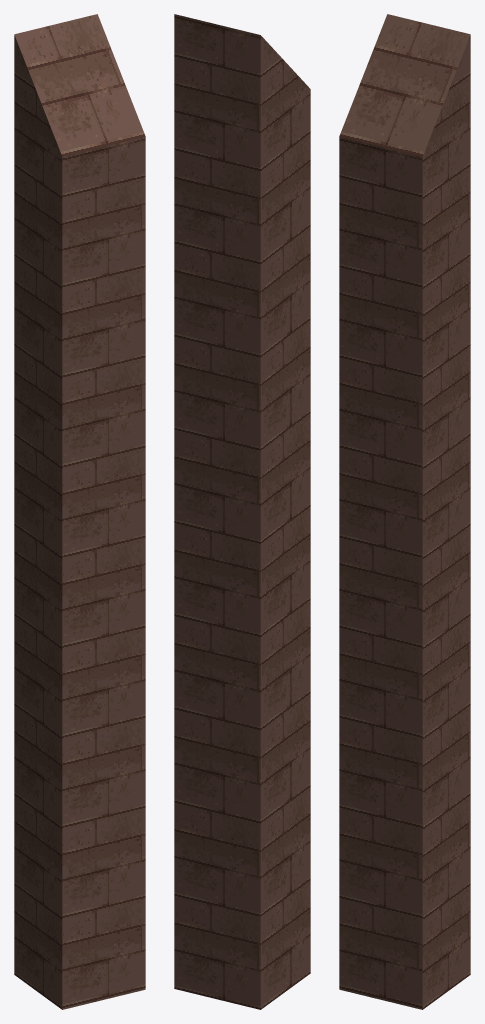
The model's file is staircase.glb.
3 renders of one model, left to right at view 1: azimuth 30°, elevation 25°; view 2: azimuth 150°, elevation 25°; view 3: azimuth 330°, elevation 25°, orthographic. The views are drawn at different scales.
Visible parts, largest first — view 1: Cube; view 2: Cube; view 3: Cube.
Boxes of the visible parts, <box> form: Cube: <box>14,14,145,1009</box>; Cube: <box>174,14,310,1009</box>; Cube: <box>339,14,470,1009</box>.
Size of the model in its own units: 2 by 21.56 by 2.
1 material, 1 textured.
